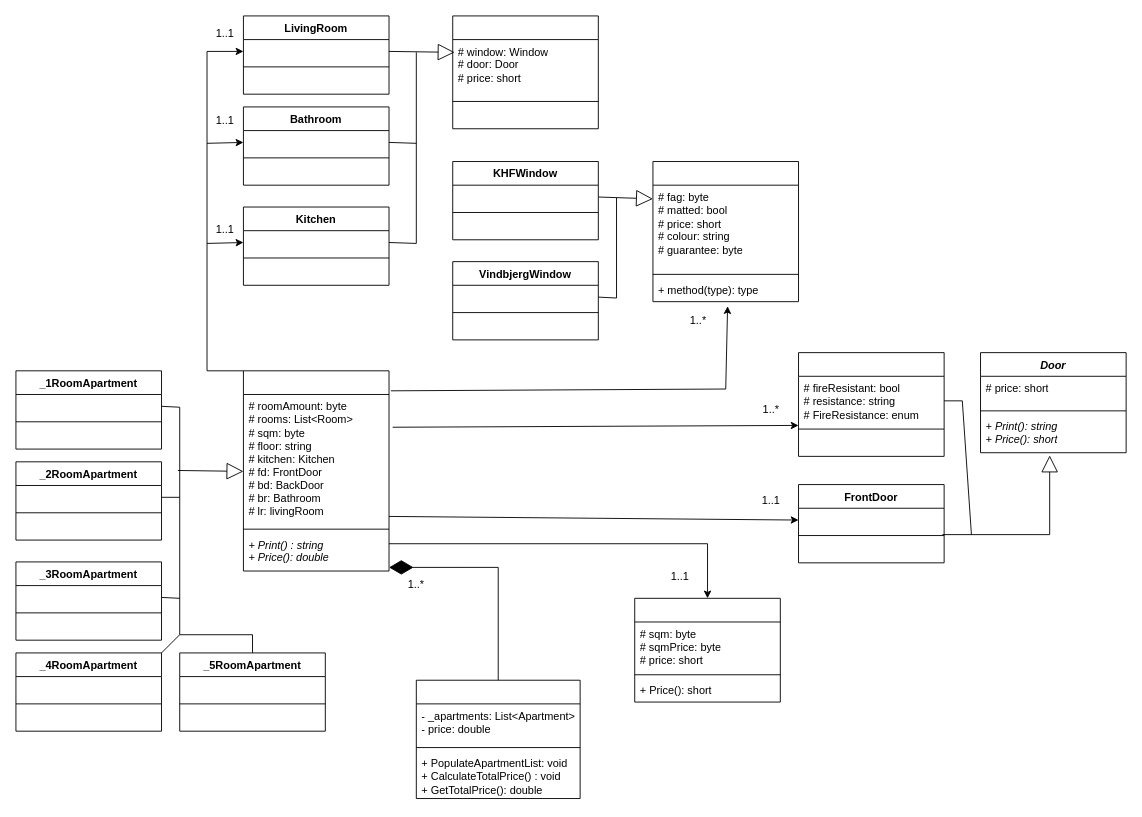
Some shapes in this 1142 by 817 pixel diagram are drawn without their labels. The box of each missing label's shape, as (x1, y1, x2, y2) in pixels:
Apartment: (243, 370, 389, 571)
BackDoor: (798, 352, 944, 456)
BoGodt: (415, 679, 580, 799)
Floor: (634, 597, 780, 702)
Room: (452, 15, 598, 129)
Window: (652, 161, 799, 302)
